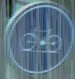bike lane: (7, 4, 71, 67)
